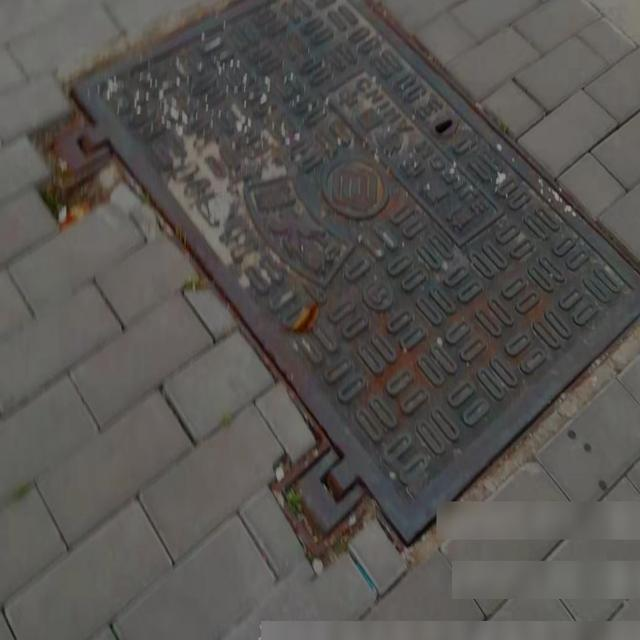good: (66, 0, 640, 534)
